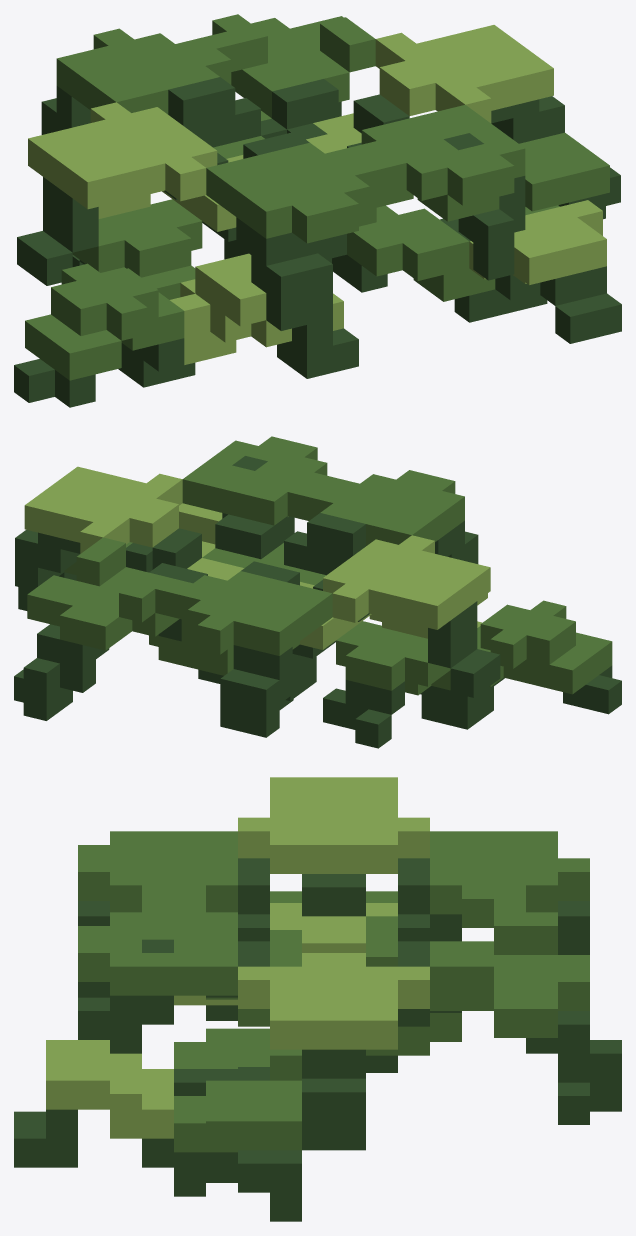
Rendered from fern_cluster_v2_far.glb.
3 renders of one model, top to bottom at view 1: azimuth 30°, elevation 25°; view 2: azimuth 150°, elevation 25°; view 3: azimuth 270°, elevation 25°, orthographic. The views are drawn at different scales.
Visible parts, largest first — view 1: fern_cluster_v2_far; view 2: fern_cluster_v2_far; view 3: fern_cluster_v2_far.
Boxes of the visible parts, box(x1,y1,x2,y2) form: fern_cluster_v2_far: box(14, 14, 621, 407); fern_cluster_v2_far: box(14, 436, 621, 748); fern_cluster_v2_far: box(14, 777, 621, 1221).
Size of the model in its own units: 3 by 0.875 by 2.38.
1 material, 1 textured.
